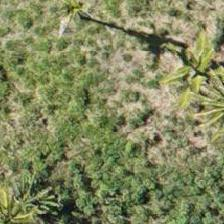coconut_tree: (0, 175, 53, 223)
